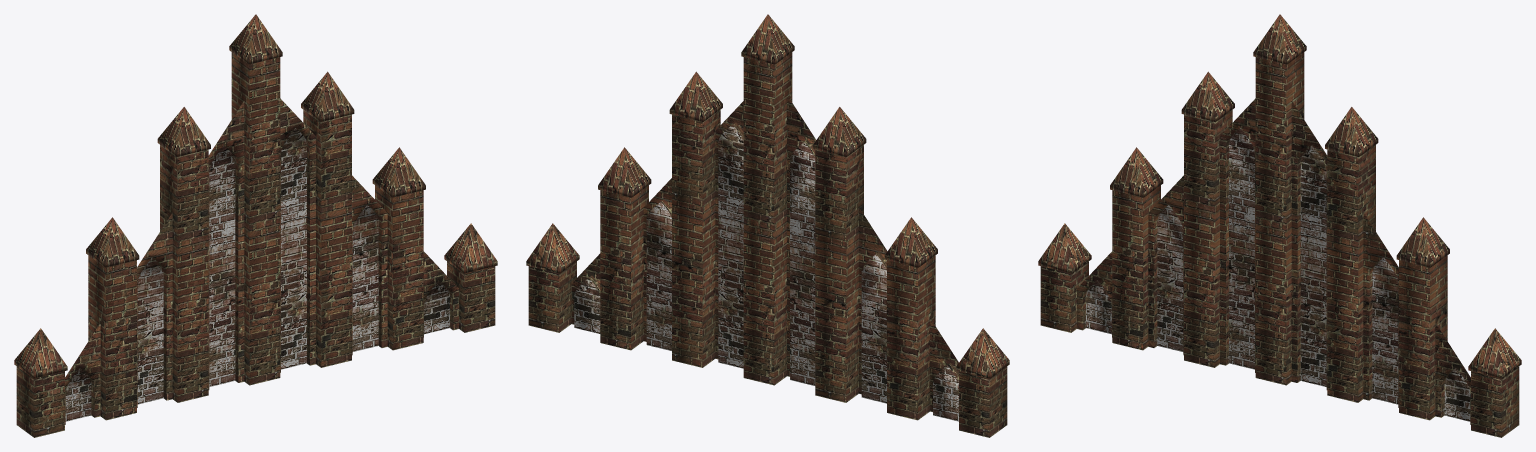
Rendered from chapel_top.obj.
The picture shows the model from 3 angles, left to right: view 1: azimuth 30°, elevation 25°; view 2: azimuth 150°, elevation 25°; view 3: azimuth 330°, elevation 25°; orthographic projection.
Visible parts, largest first — view 1: Object002; view 2: Object002; view 3: Object002.
Boxes of the visible parts, left/top/right/bottom form: Object002: left=14, top=14, right=497, bottom=437; Object002: left=526, top=14, right=1009, bottom=437; Object002: left=1038, top=14, right=1521, bottom=437.
Bounding box in the file's own units: 6185 × 4601 × 451.
Materials: 2 (2 with a texture image).
